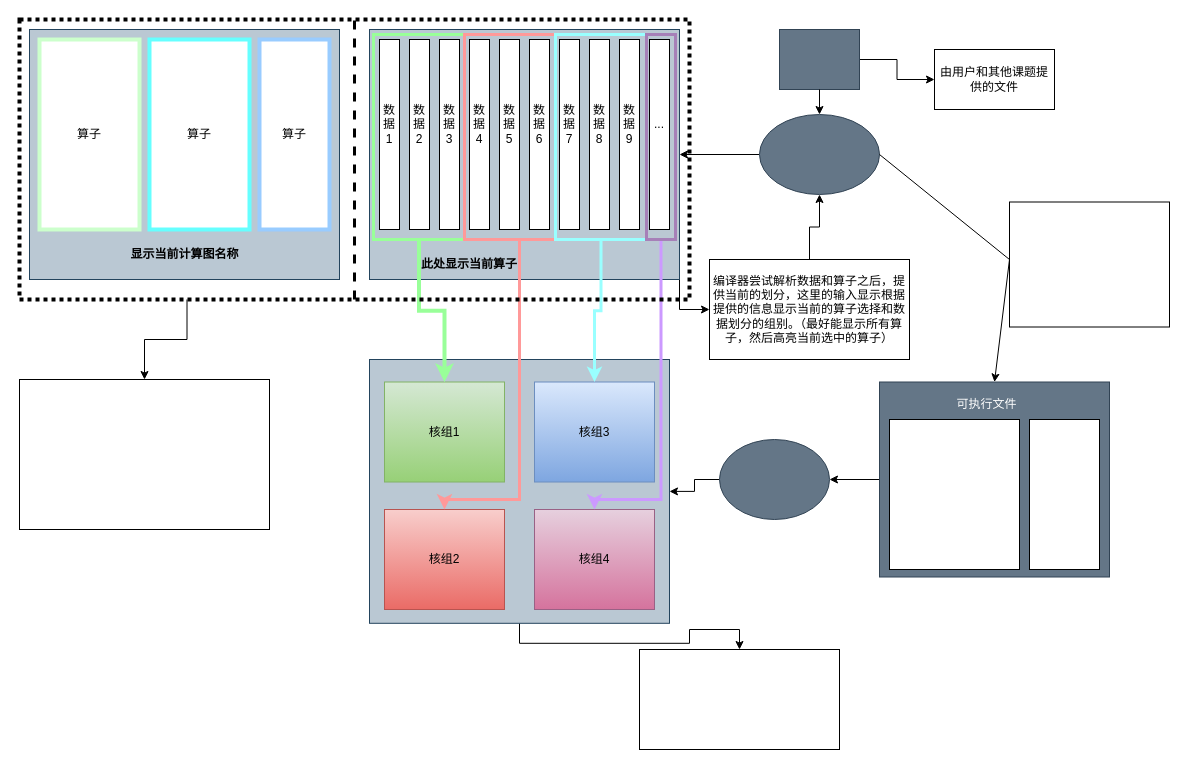
This 1187x767 diagram has some shape labels left out. The centre of each missing label's shape, as x and y in pixels:
CPU 主控程序: the point at 954,494
GPU PTX 文件: the point at 1064,494
加载程序: the point at 774,479
晶圆信息/编译信息/代码: the point at 819,59
此处也根据课题三信息显示当前晶圆状态，并根据编译器提供的划分信息，将上面的数据组表示和下面的核组表示相连: the point at 739,699
编译器: the point at 819,154
编译器之后提供更多编译输出，可以在生成可执行文件的过程中输出当前编译的更多进程状态。: the point at 1089,264
输入的表示分密码学和神经网络两种，映射的方式上基本一致: the point at 144,454
